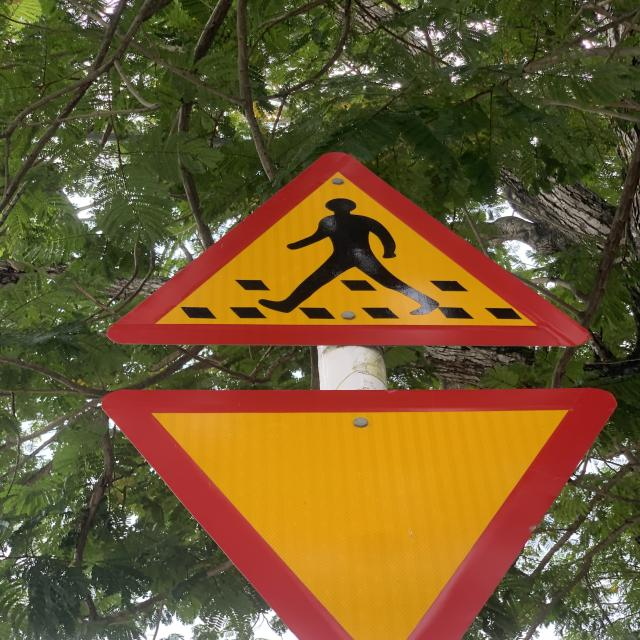Duong_Nguoi_Di_Bo_Sang_Ngang: (104, 148, 586, 354)
Gioi_Han_Toc_Do_25: (100, 384, 617, 640)
